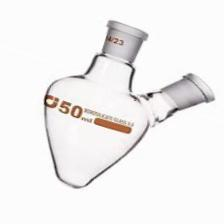Pear shaped flask: (21, 11, 218, 190)
